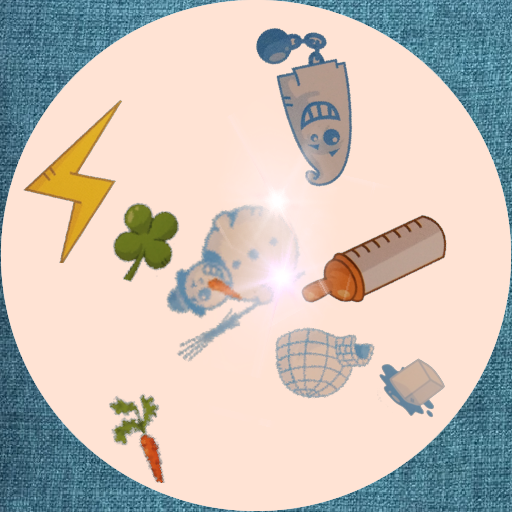bottle_icon: (294, 183, 454, 343)
carrot_icon: (99, 385, 197, 483)
cloverleaf_icon: (96, 196, 182, 282)
cube_icon: (377, 344, 455, 422)
ghost_icon: (223, 18, 397, 192)
igloo_icon: (274, 306, 377, 409)
lightning_icon: (0, 95, 168, 263)
snowman_icon: (146, 201, 319, 374)
